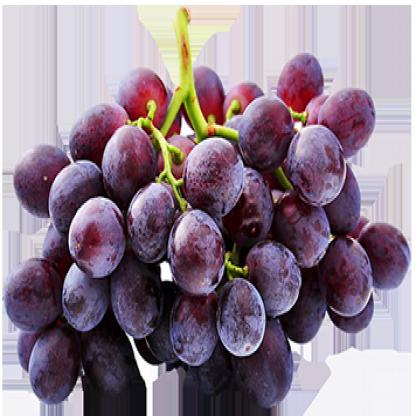--: (3, 12, 408, 416)
